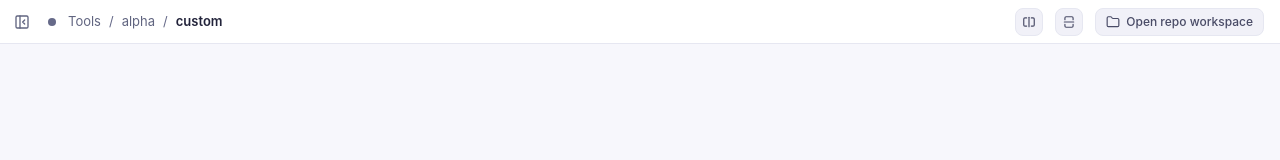
Test: TerminalHeader › committing an empty draft reverts to the default title
Click the button "custom": (199, 22) [176,12,223,31]
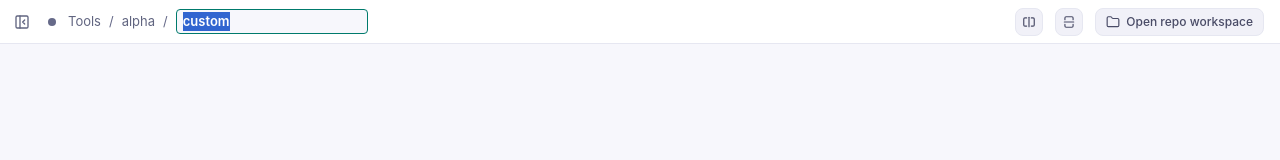
Clear the field named "Rename terminal": (272, 22) [176,9,368,34]
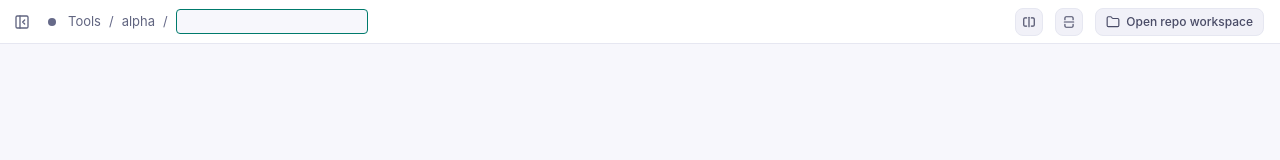
Press Enter in the field named "Rename terminal", box [176,9,368,34]
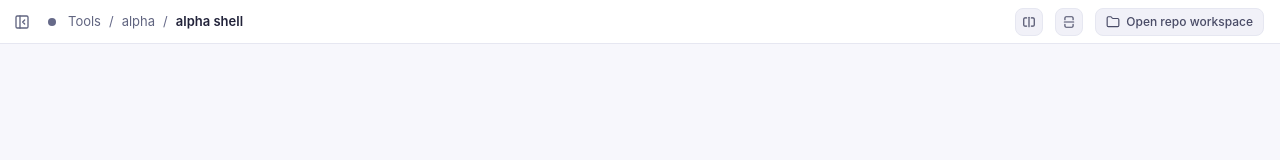
Now the button "alpha shell" is shown, box [176,12,243,31]
